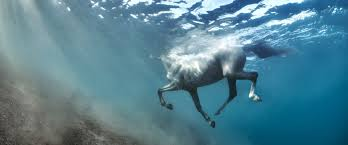Horse: (131, 19, 306, 115)
